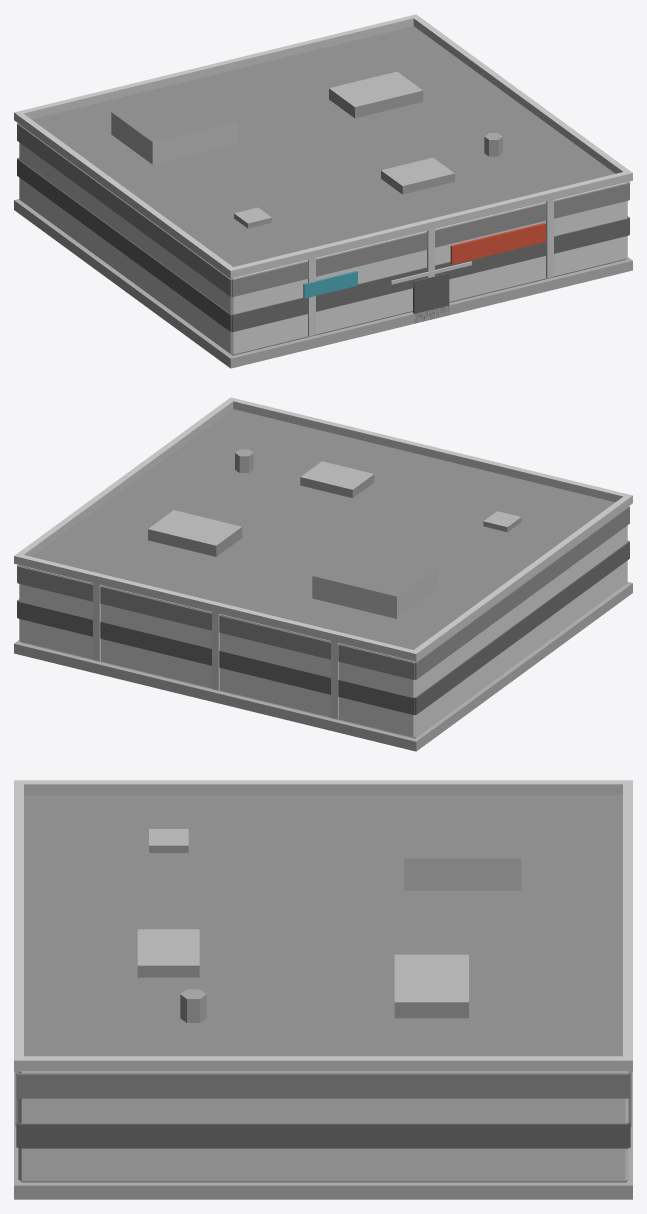
File: bld_block_small_lod0.glb
3 renders of one model, top to bottom at view 1: azimuth 30°, elevation 25°; view 2: azimuth 150°, elevation 25°; view 3: azimuth 270°, elevation 25°, orthographic. The views are drawn at different scales.
Visible parts, largest first — view 1: bld; view 2: bld; view 3: bld.
Part boxes in pixels (x1=…): bld: x1=14, y1=14, x2=632, y2=368; bld: x1=14, y1=397, x2=632, y2=751; bld: x1=14, y1=780, x2=632, y2=1199.
Bounding box in the file's own units: 30 × 8 × 28.
